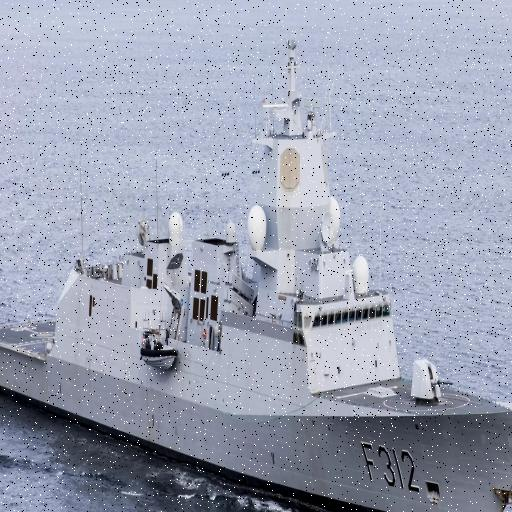Fragata: (1, 27, 512, 512)
